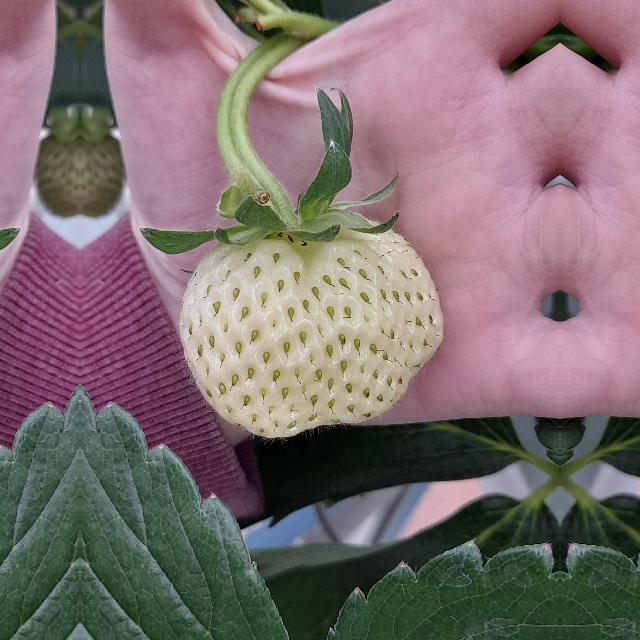Health_25: (179, 220, 443, 438)
